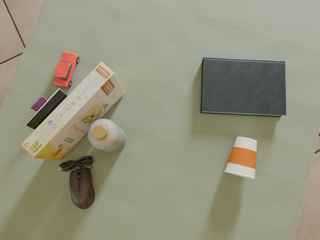book: (201, 57, 286, 117)
bottle: (88, 119, 126, 152)
box: (21, 62, 124, 160)
cup: (224, 137, 257, 179)
mouse: (58, 156, 94, 209)
phone: (25, 89, 68, 130)
toy_car: (54, 51, 79, 88)
